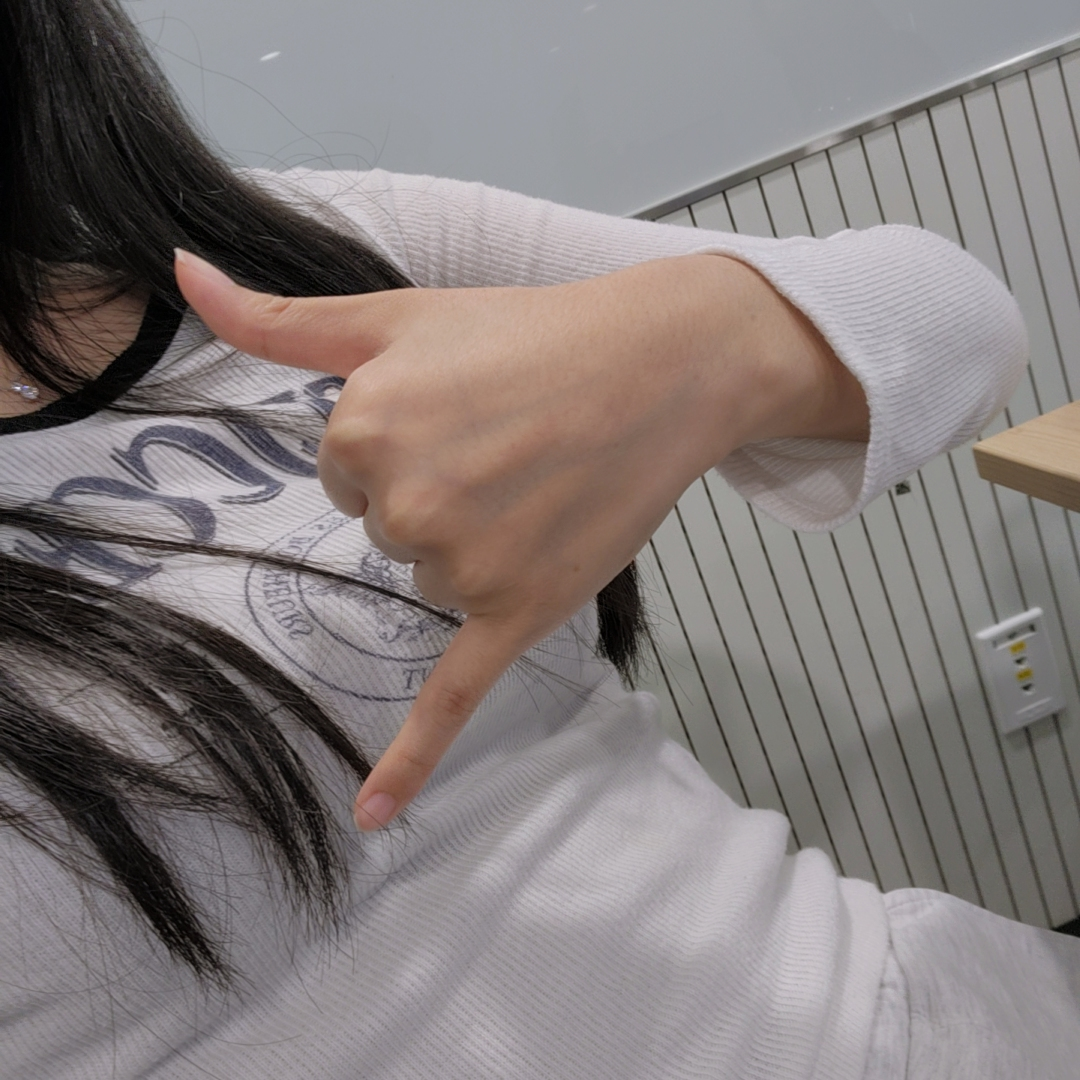call: (173, 247, 652, 833)
